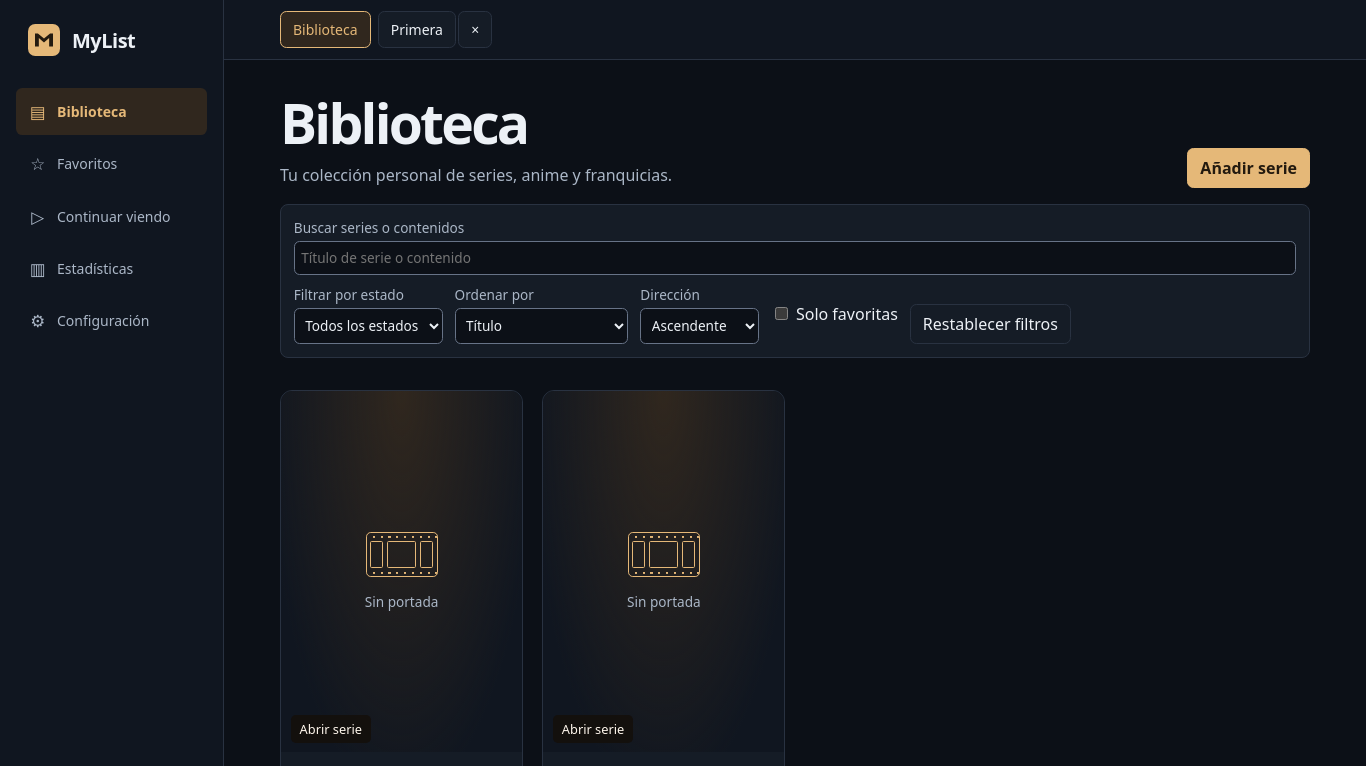
Scenario: MyList › keeps open series unique and removes the tab after a confirmed cascade
The image size is (1366, 766).
Earlier steps of the test are not shown.
Click the 1st button "Abrir serie": x=402, y=571 top-left (281, 391), bottom-right (522, 752)
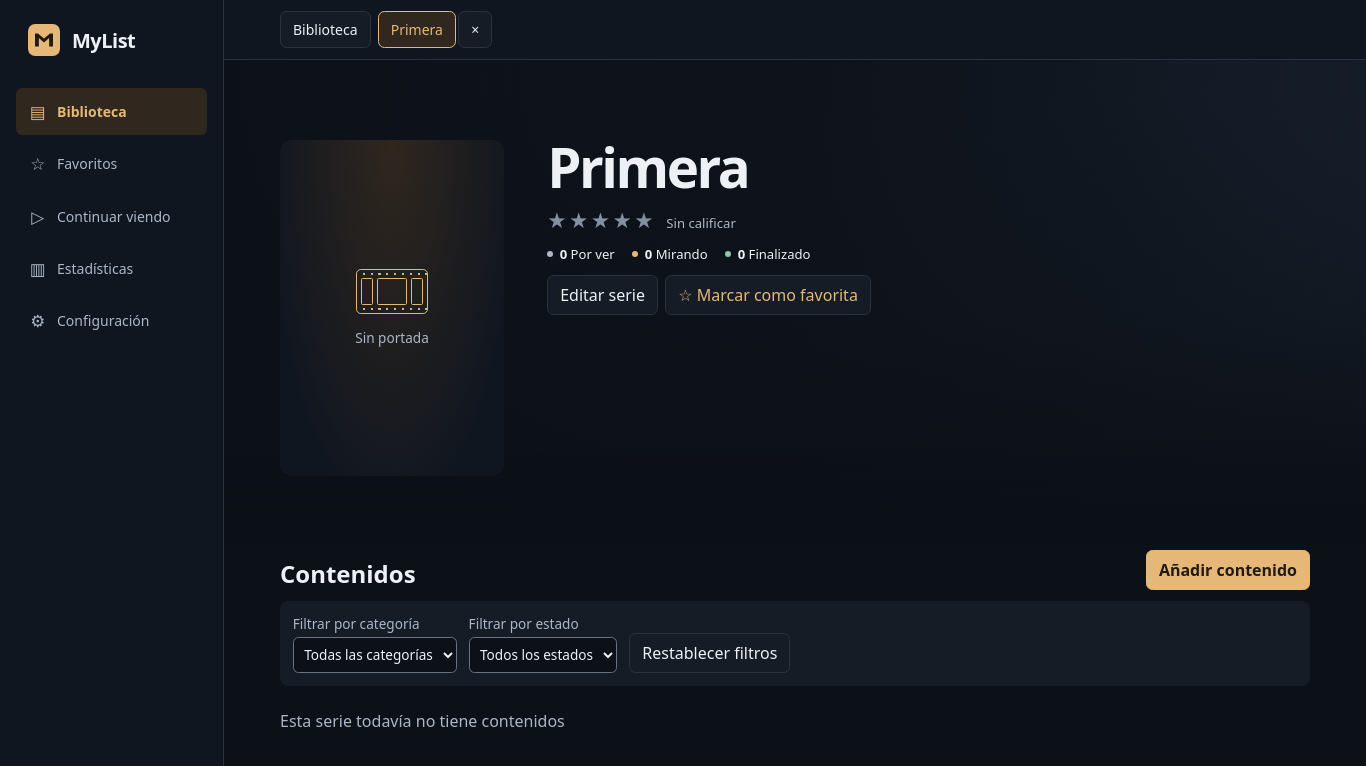
Now the number of buttons "Primera" is 1, box top-left (378, 11), bottom-right (456, 48)
Now the text "Esta serie todavía no tiene contenidos" is shown, box top-left (280, 710), bottom-right (565, 732)
Click the button with aria-label "Volver a Biblioteca": x=325, y=30 top-left (280, 11), bottom-right (370, 48)
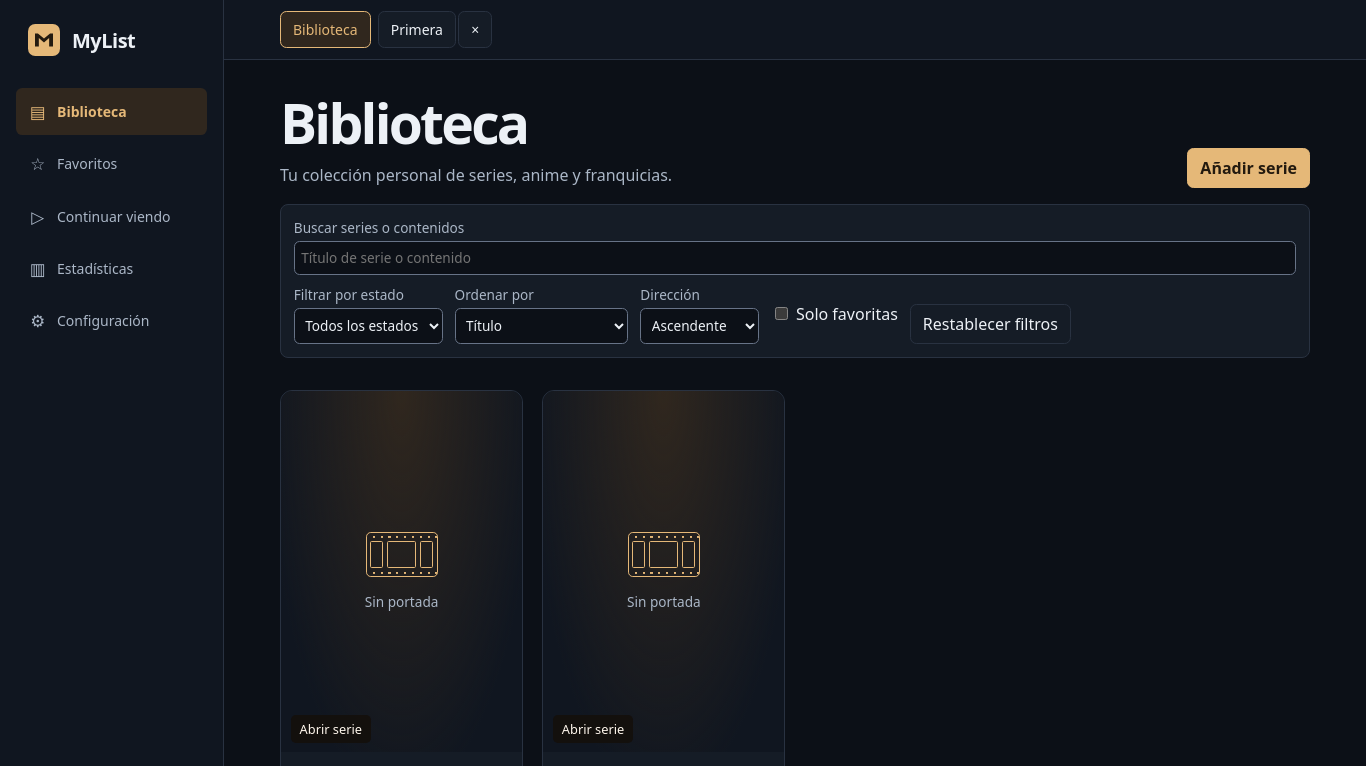
Click the 2nd button "Abrir serie": x=664, y=572 top-left (543, 391), bottom-right (784, 752)
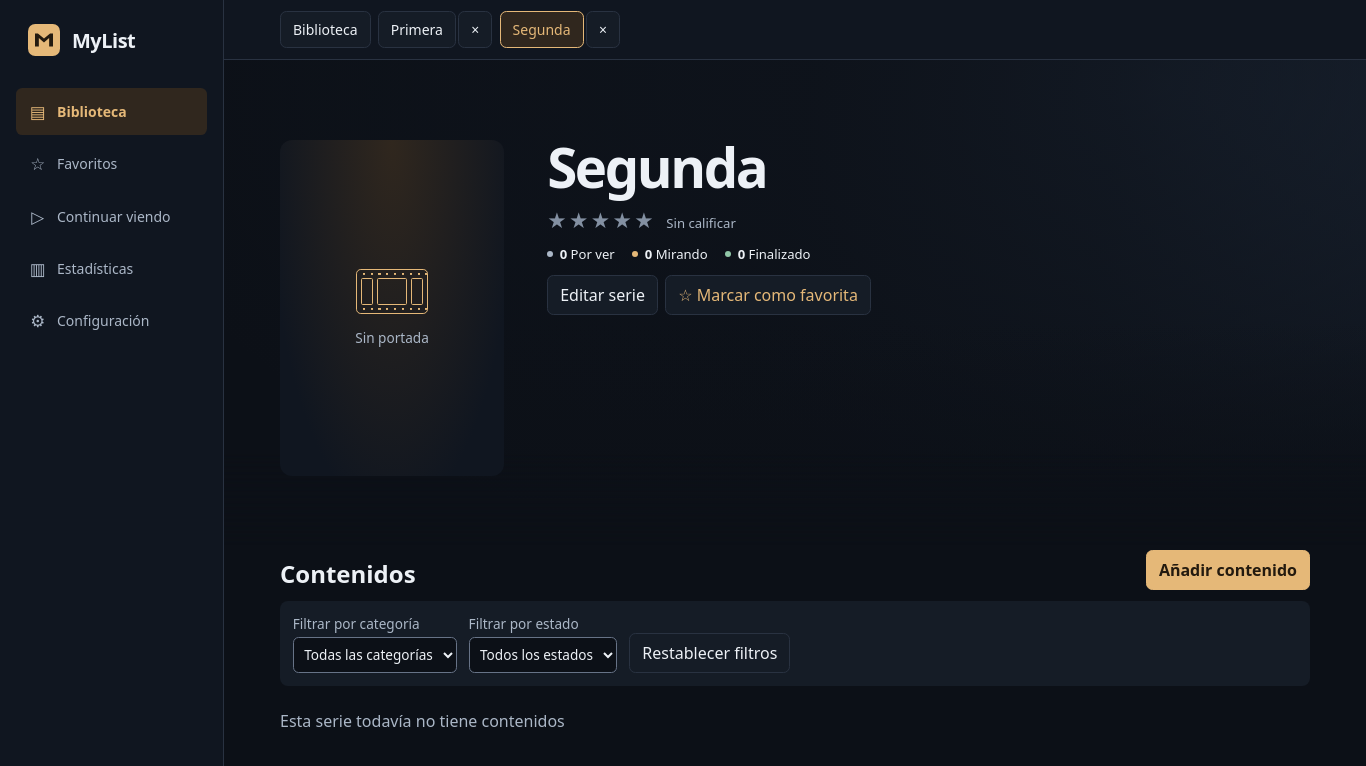
Now the text "Esta serie todavía no tiene contenidos" is shown, box top-left (280, 710), bottom-right (565, 732)
Click the button with aria-label "Volver a Biblioteca": x=325, y=30 top-left (280, 11), bottom-right (370, 48)
(page scrolled)
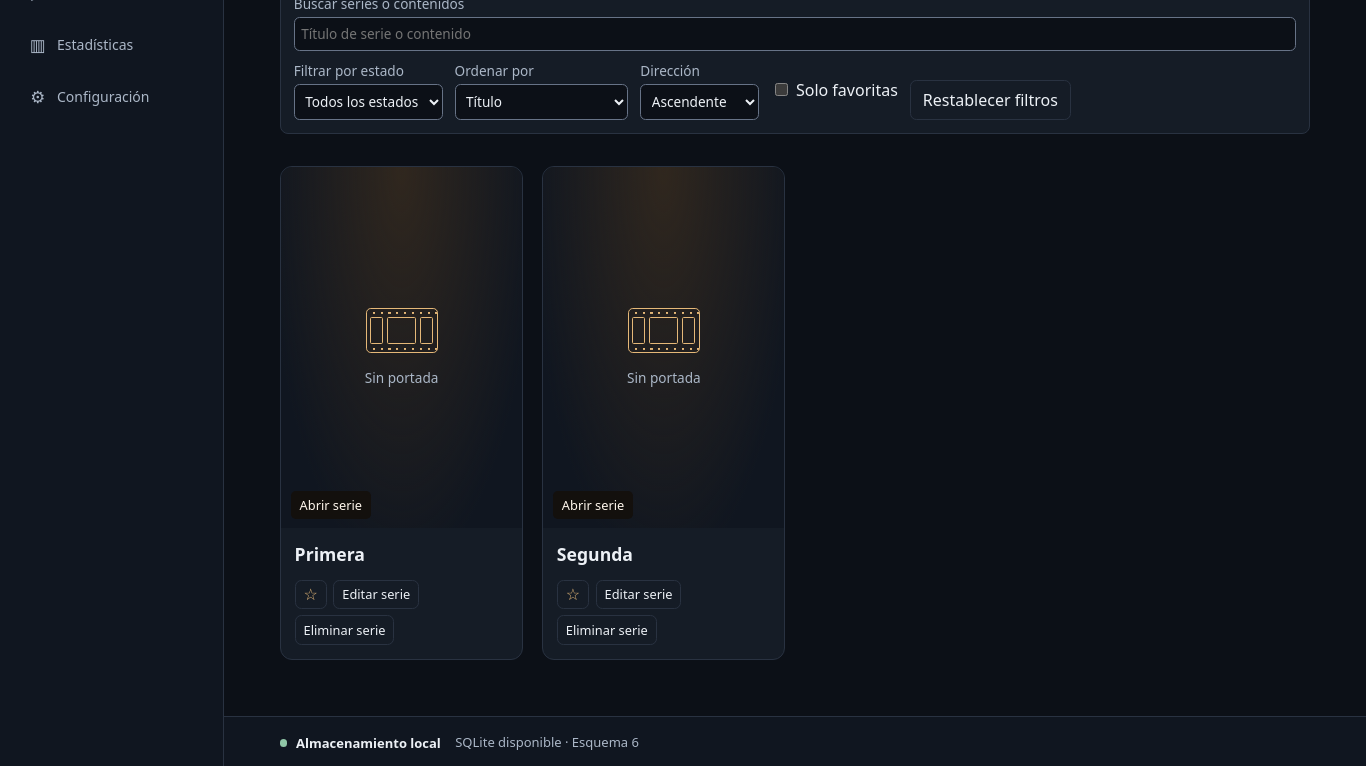
Click the 1st button "Eliminar serie": x=344, y=630 top-left (295, 616), bottom-right (394, 645)
(page scrolled)
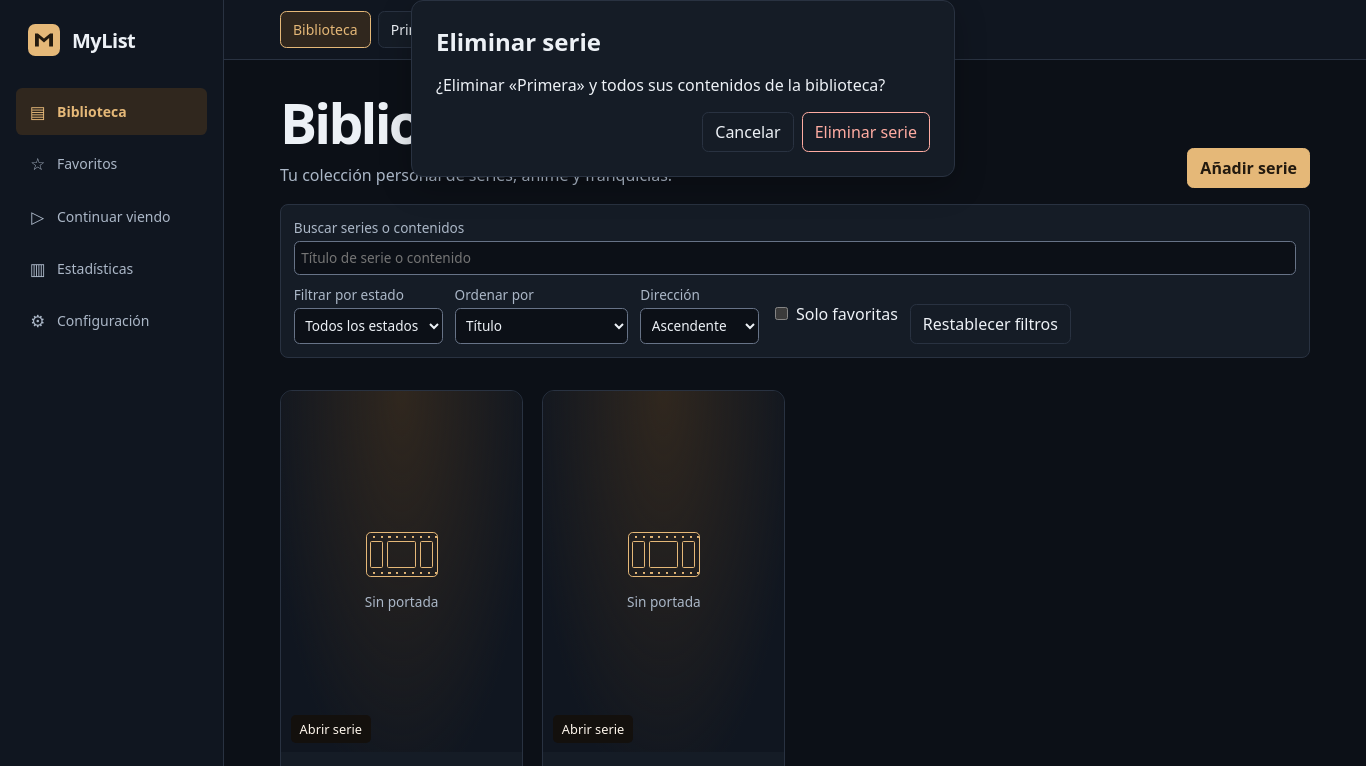
Now the text "¿Eliminar «Primera» y todos sus contenidos de la biblioteca?" is shown, box top-left (436, 74), bottom-right (930, 96)
Click the button "Eliminar serie": x=866, y=132 top-left (802, 112), bottom-right (930, 152)
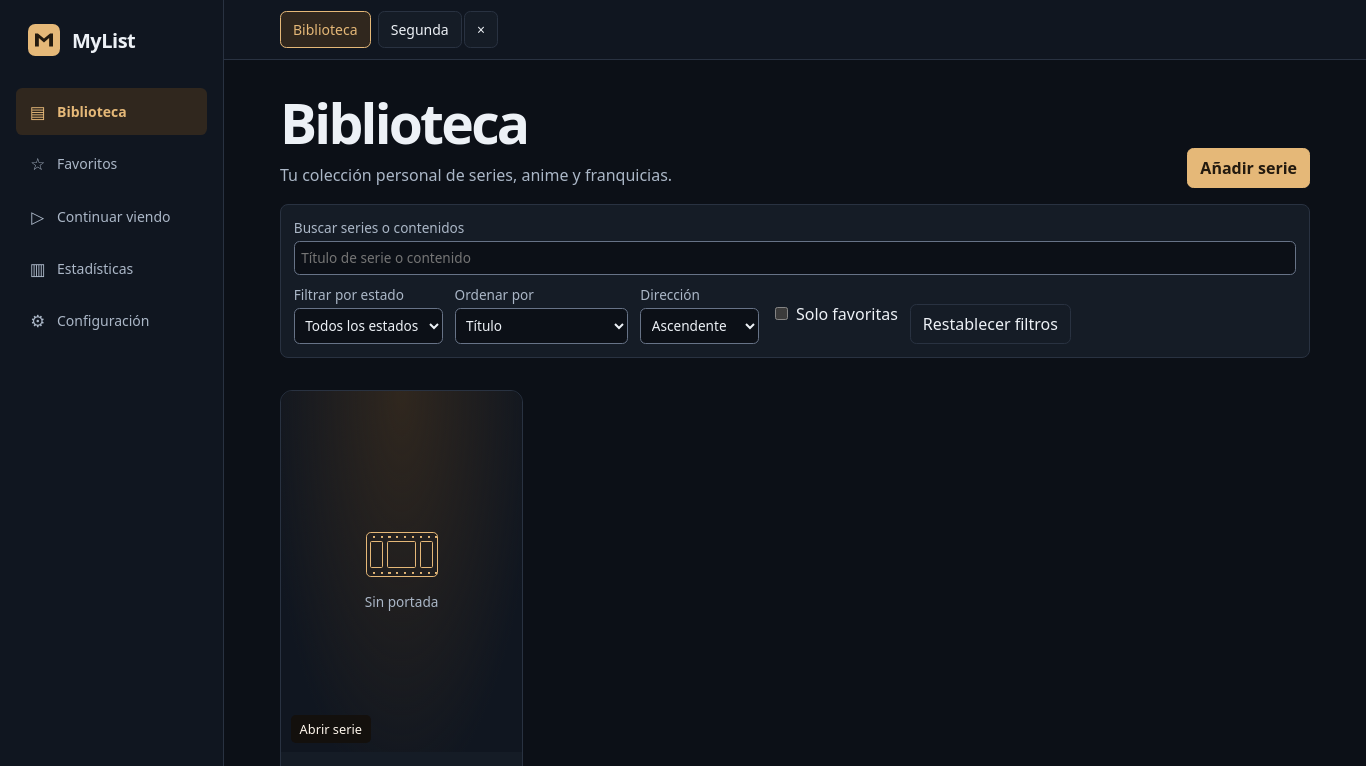
Now the button "Abrir serie" is shown, box top-left (281, 391), bottom-right (522, 752)
Now the button "Segunda" is shown, box top-left (378, 11), bottom-right (462, 48)
Now the button "Primera" is gone
